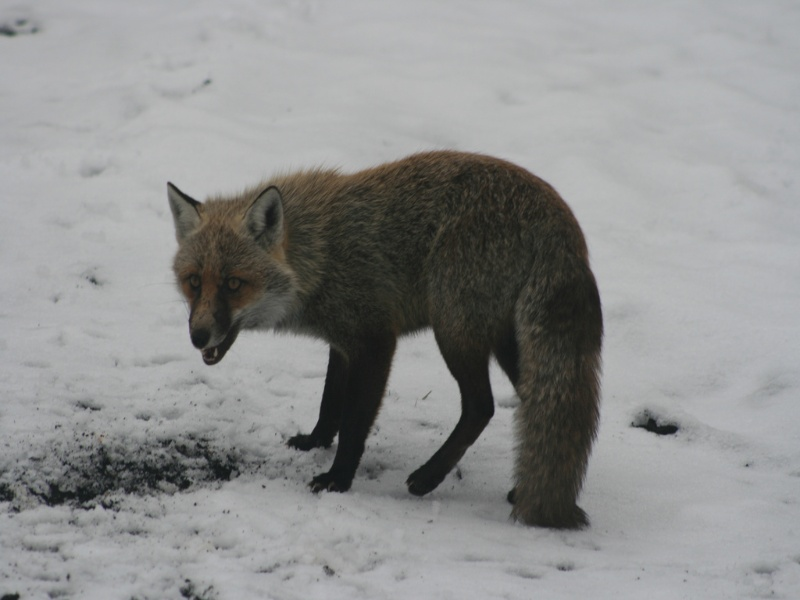fox: (157, 150, 609, 539)
